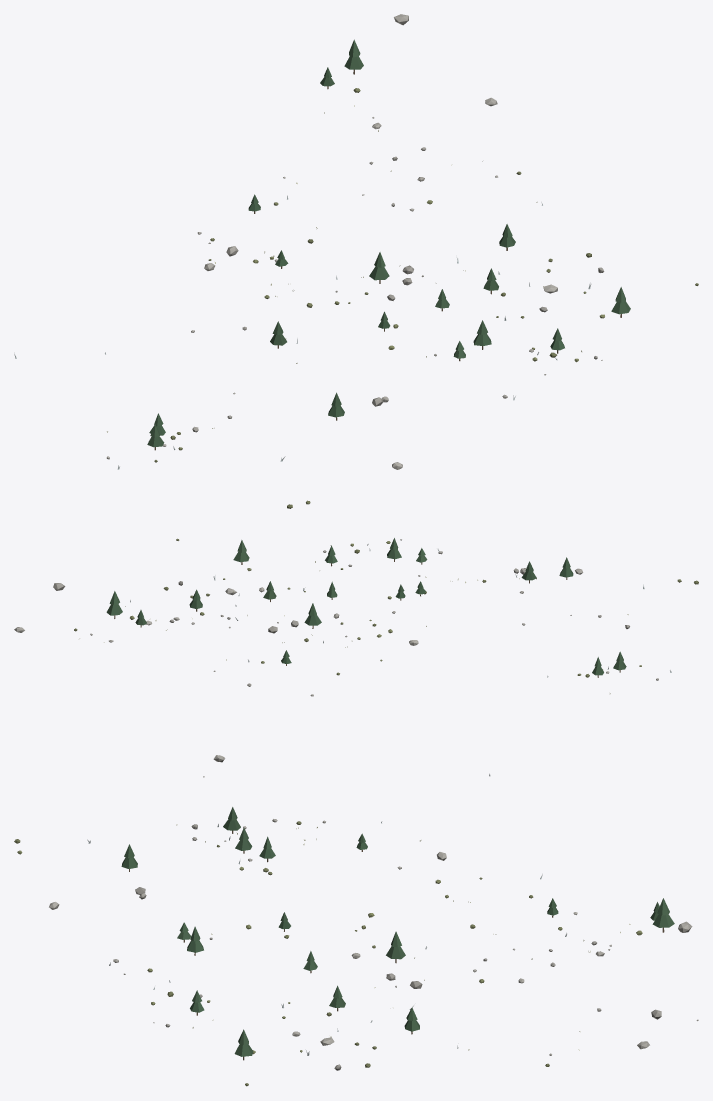
Rendered from coast_land_scatter_c10_18_lod1.glb.
3 views of the same model, one above another, from view 1: azimuth 30°, elevation 25°; view 2: azimuth 150°, elevation 25°; view 3: azimuth 270°, elevation 25° (orthographic). The views are drawn at different scales.
Parts seen in each view (by area): view 1: coast_land_scatter_c10_18_lod1; view 2: coast_land_scatter_c10_18_lod1; view 3: coast_land_scatter_c10_18_lod1.
Part boxes in pixels (left/top/right/bottom): coast_land_scatter_c10_18_lod1: left=14, top=14, right=698, bottom=508; coast_land_scatter_c10_18_lod1: left=14, top=538, right=698, bottom=777; coast_land_scatter_c10_18_lod1: left=14, top=807, right=698, bottom=1086.
Size of the model in its own units: 247 by 74.63 by 248.
